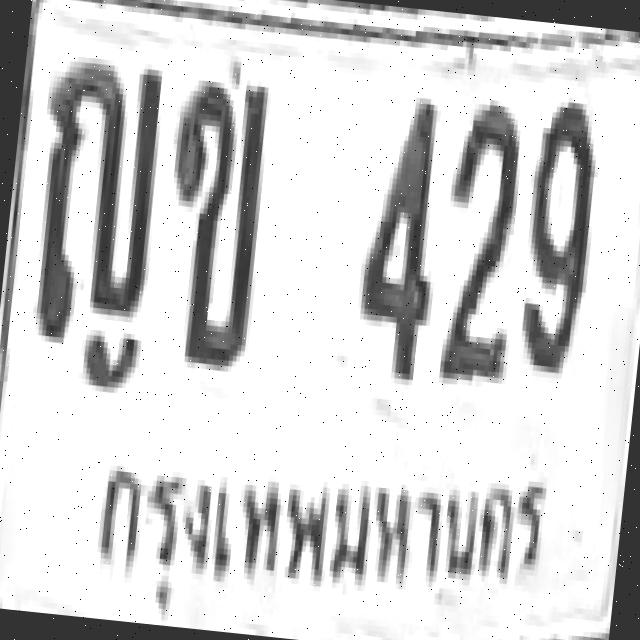0: (512, 93, 604, 374)
11KhorKhai: (150, 72, 272, 367)
2: (431, 96, 531, 384)
22YorYing: (22, 48, 166, 345)
4: (350, 90, 450, 378)
9: (512, 93, 604, 374)
Bangkok: (69, 419, 563, 634)
